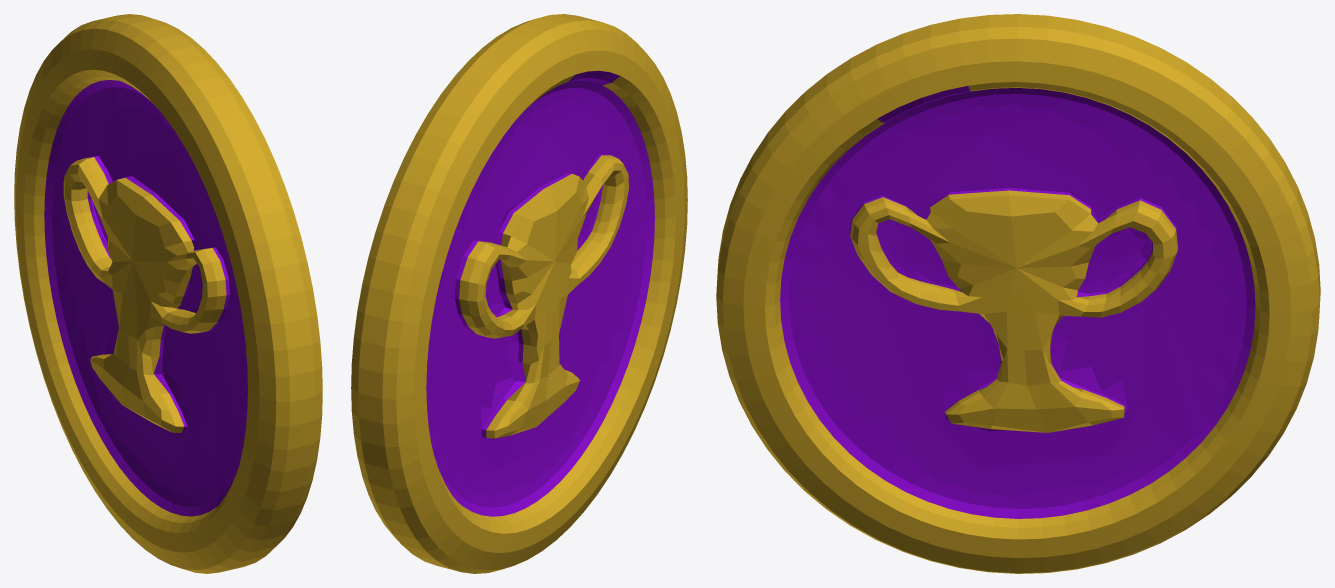
File: Coin.fbx
3 renders of one model, left to right at view 1: azimuth 30°, elevation 25°; view 2: azimuth 150°, elevation 25°; view 3: azimuth 270°, elevation 25°, orthographic. The views are drawn at different scales.
Parts seen in each view (by area): view 1: Circle; view 2: Circle; view 3: Circle.
Boxes of the visible parts, box(x1,y1,x2,y2) form: Circle: box(14, 14, 322, 573); Circle: box(351, 14, 687, 573); Circle: box(716, 14, 1320, 573).
Size of the model in its own units: 32.36 by 199 by 199.
